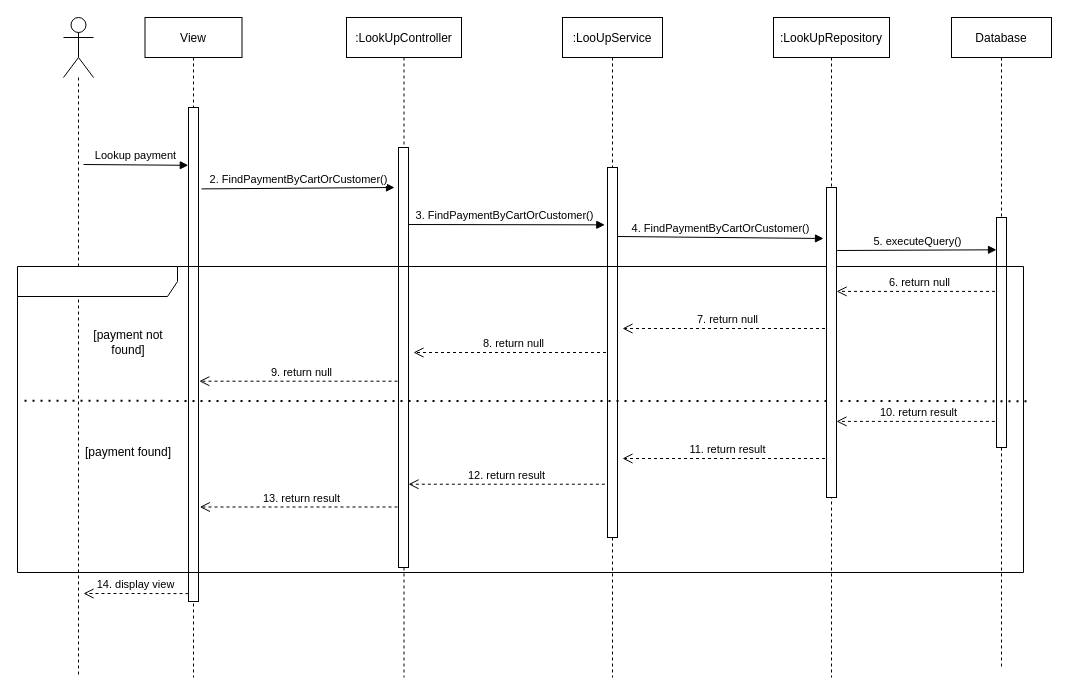
Image size: 1069x696. Some labels were removed from this diagram. Each missing label, with the box of its shape:
At look up: (16, 266, 1024, 572)
Employee/Admin: (62, 16, 94, 78)
